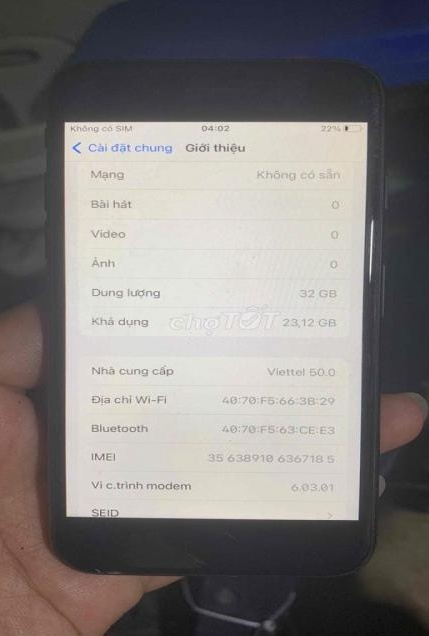scratch: (369, 78, 384, 167), (83, 556, 131, 574)
